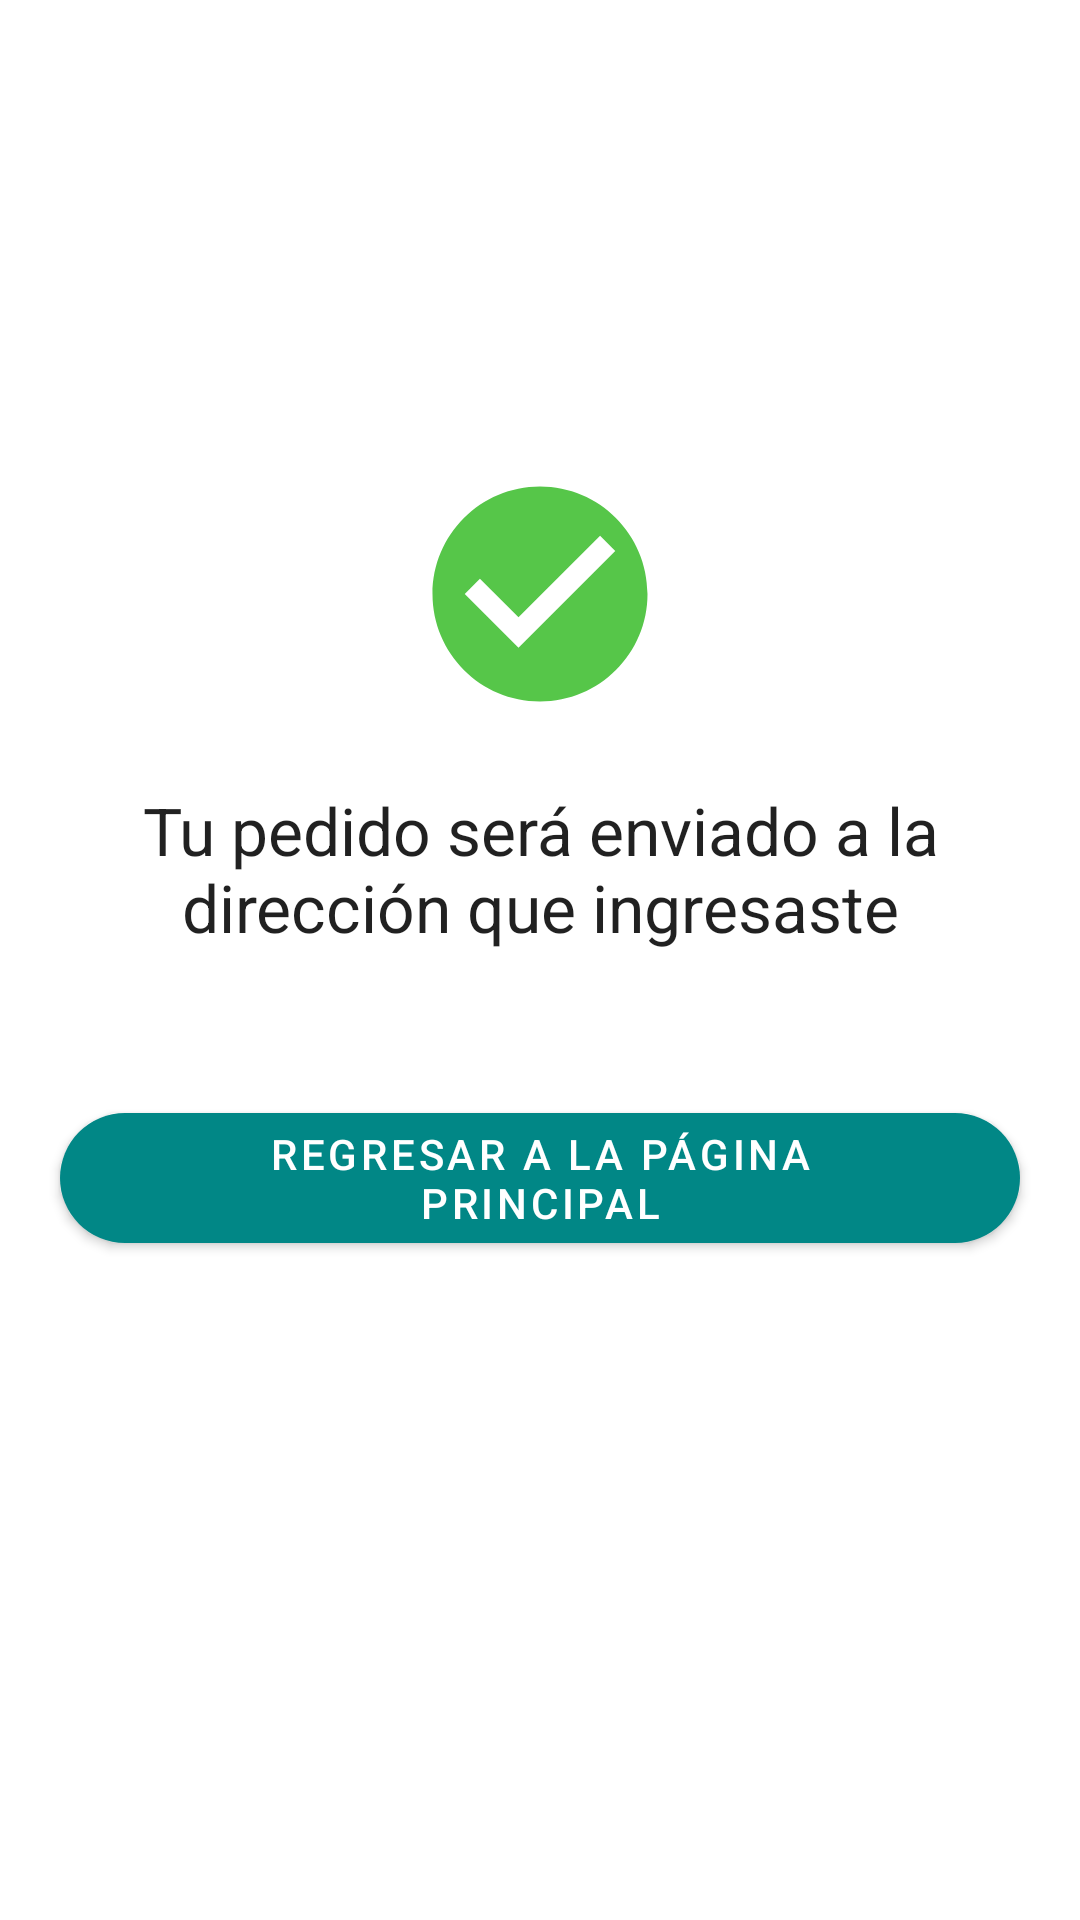

Locate icon controls on the screen. Image size 1080*1920, boxes as {"x1": x1, "y1": y1, "x2": x2, "y2": y2}.
check circle: {"x1": 432, "y1": 486, "x2": 648, "y2": 702}
